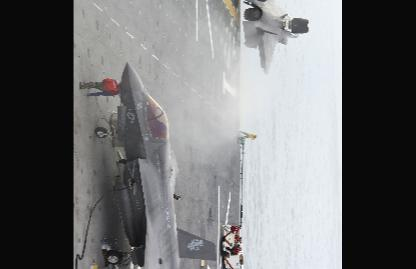F22: (95, 59, 218, 268), (242, 0, 309, 73)
